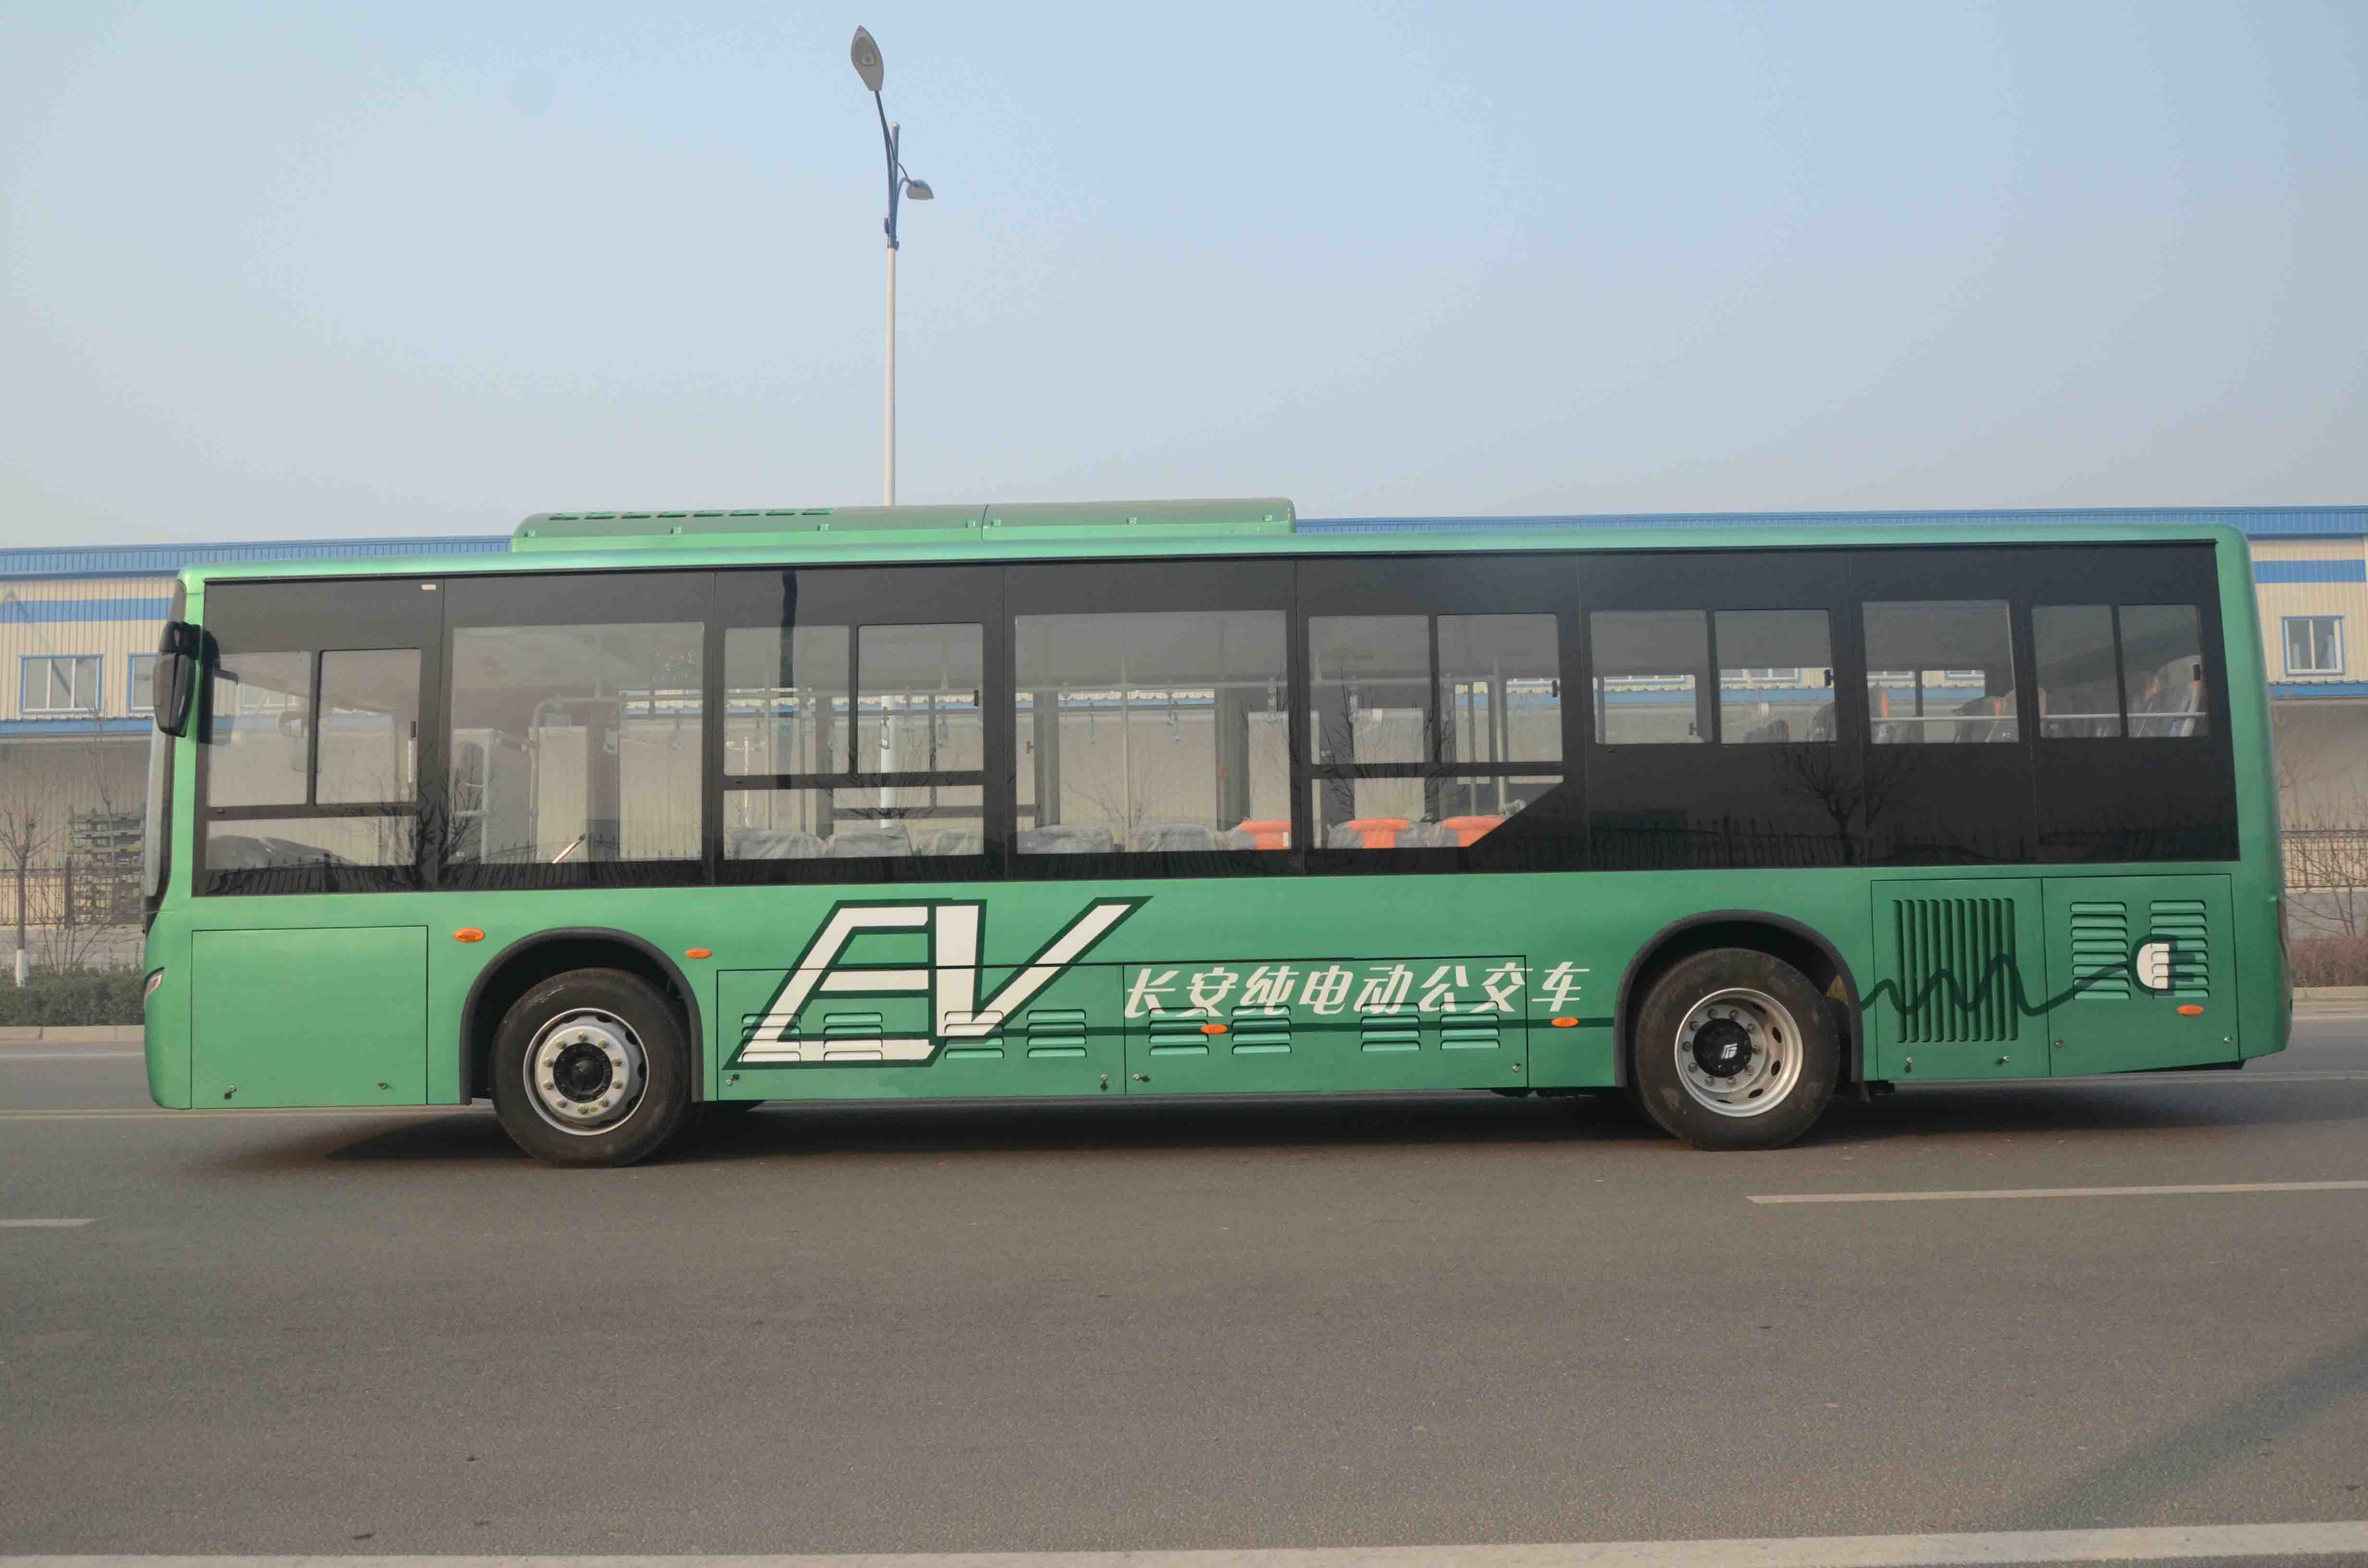bus: (88, 502, 2321, 1174)
